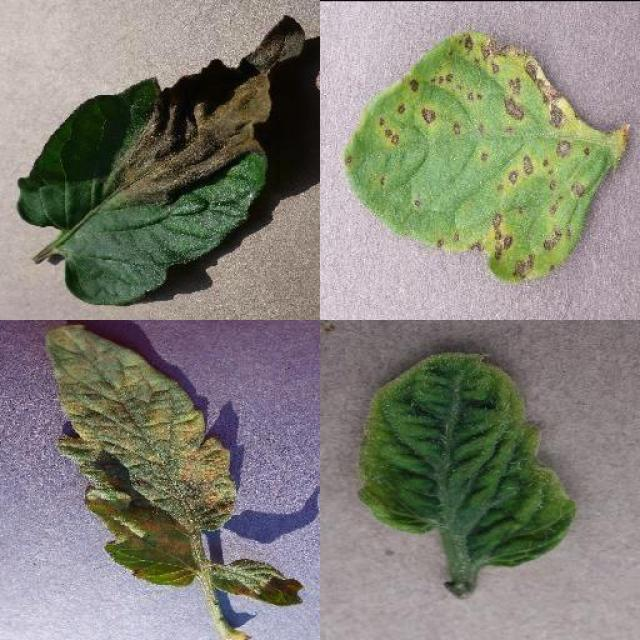Late Blight: (18, 13, 310, 305)
Septoria: (341, 30, 629, 282)
